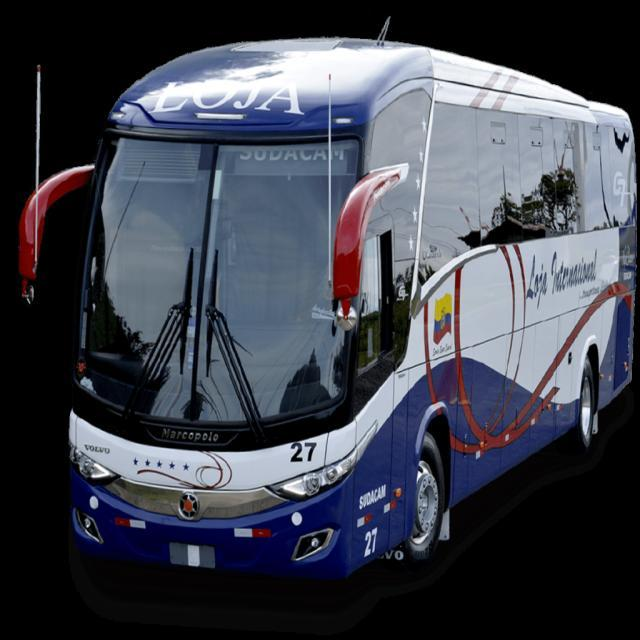BUS: (67, 32, 640, 578)
